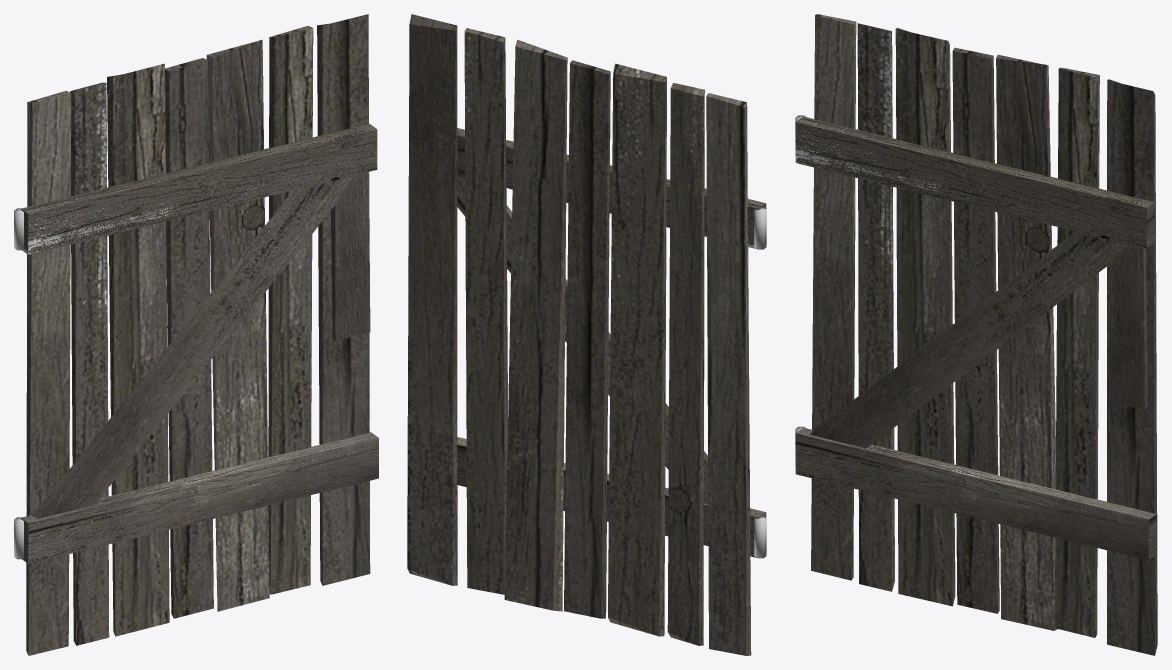
The model's file is Gate_A.fbx.
3 views of the same model, side by side, from view 1: azimuth 30°, elevation 25°; view 2: azimuth 150°, elevation 25°; view 3: azimuth 330°, elevation 25° (orthographic).
Visible parts, largest first — view 1: Gate_A; view 2: Gate_A; view 3: Gate_A.
Part boxes in pixels (x1=…): Gate_A: x1=14, y1=14, x2=378, y2=655; Gate_A: x1=407, y1=14, x2=766, y2=655; Gate_A: x1=795, y1=14, x2=1157, y2=655.
Size of the model in its own units: 186 by 280 by 10.03.
